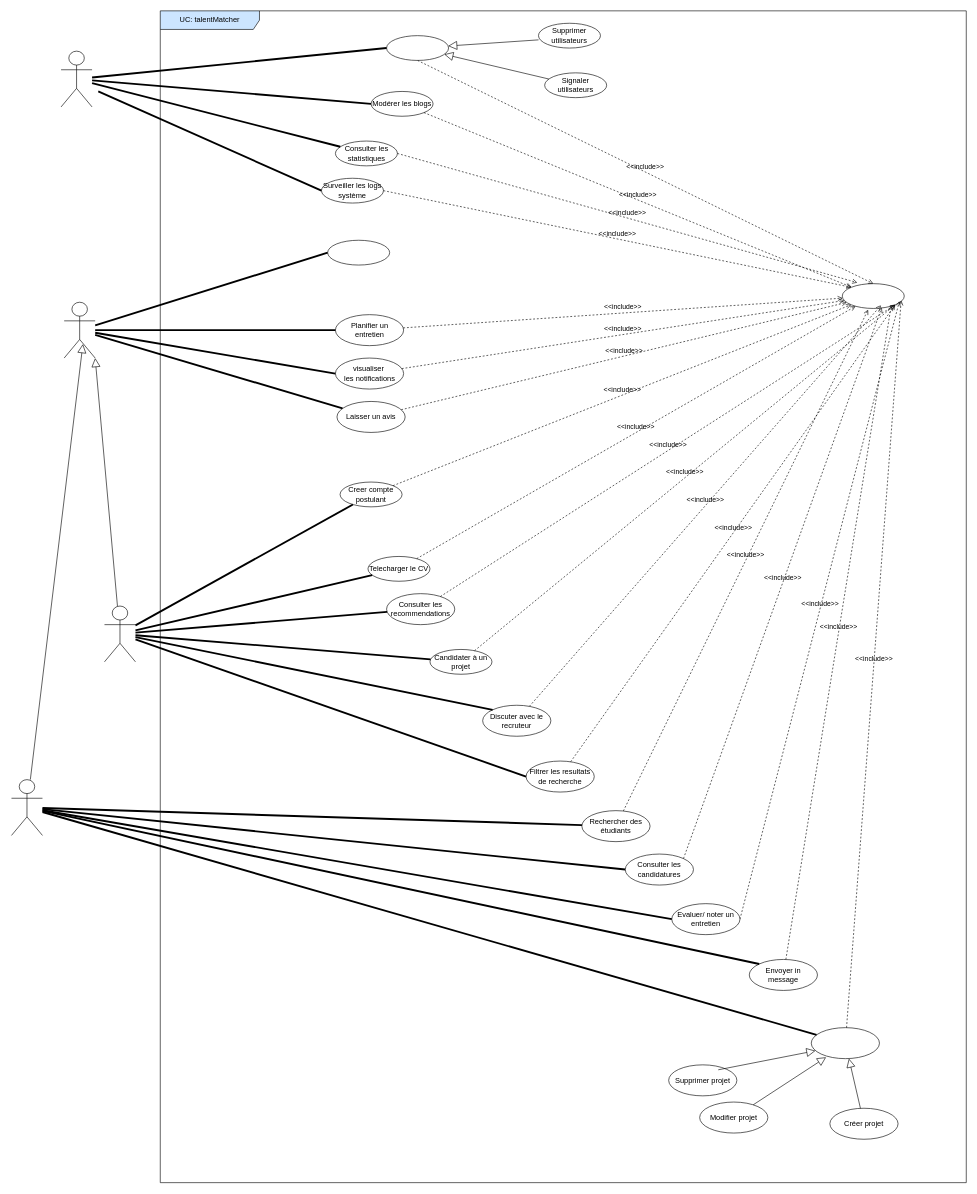
Image size: 977x1194. Some labels were removed from this diagram. The centre of each missing label's shape, as x and y in pixels:
Administrateur: the point at 76,79
Gérer les projets: the point at 845,1043
Gérer les utilisateurs: the point at 417,47
Postulant: the point at 119,633
Recruteur: the point at 26,807
S'inscrire: the point at 358,252
Se Connecter: the point at 873,295
Utilisateur: the point at 79,330
